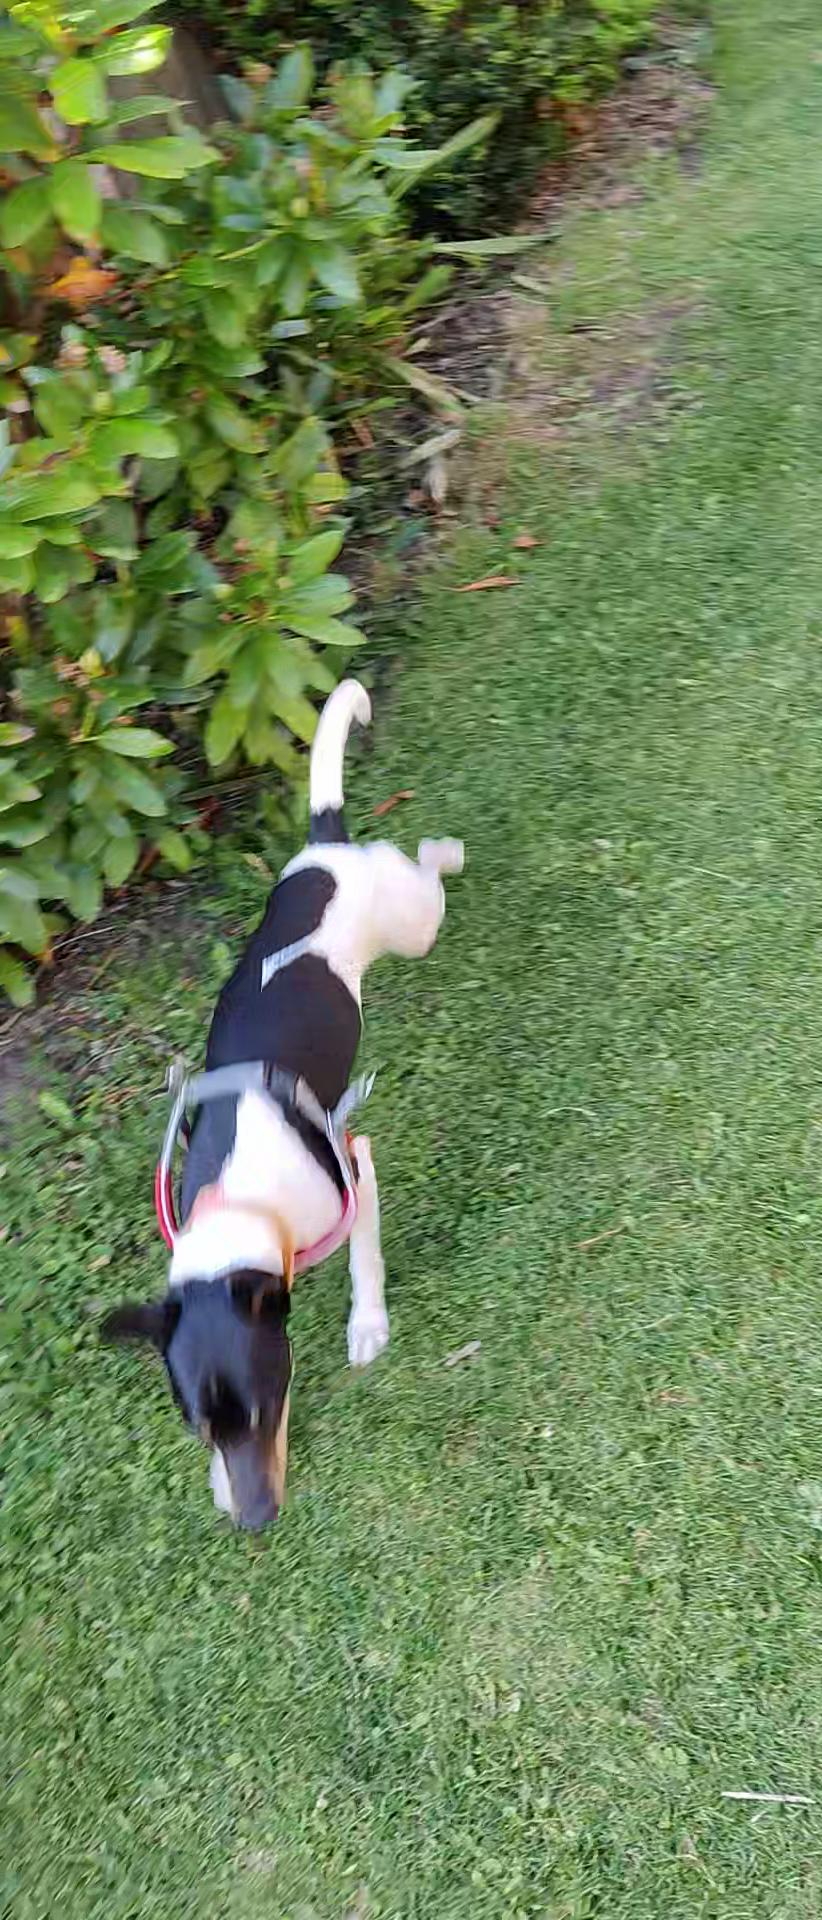Dog: (82, 659, 503, 1558)
